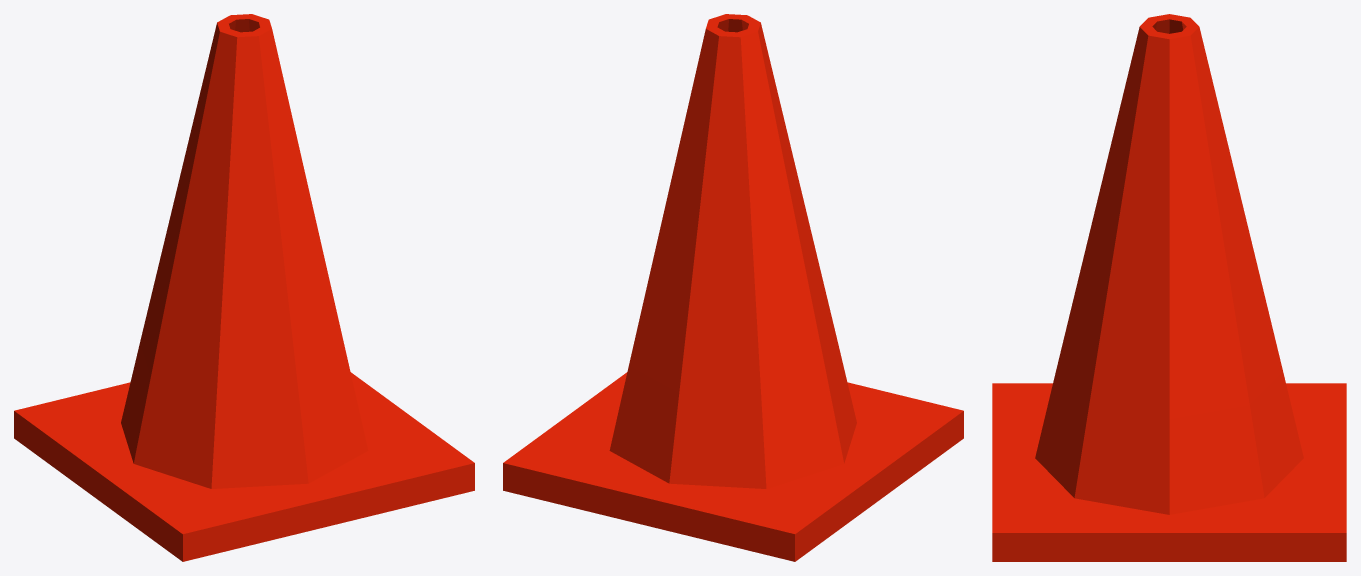
File: Traffic_Cone.fbx
The picture shows the model from 3 angles, left to right: view 1: azimuth 30°, elevation 25°; view 2: azimuth 150°, elevation 25°; view 3: azimuth 270°, elevation 25°; orthographic projection. The views are drawn at different scales.
Parts seen in each view (by area): view 1: Traffic Cone; view 2: Traffic Cone; view 3: Traffic Cone.
Part boxes in pixels (x1,y1,x2,y2): Traffic Cone: [14, 14, 474, 561]; Traffic Cone: [503, 14, 963, 561]; Traffic Cone: [992, 14, 1346, 561].
Size of the model in its own units: 67.02 by 67.08 by 96.22.
